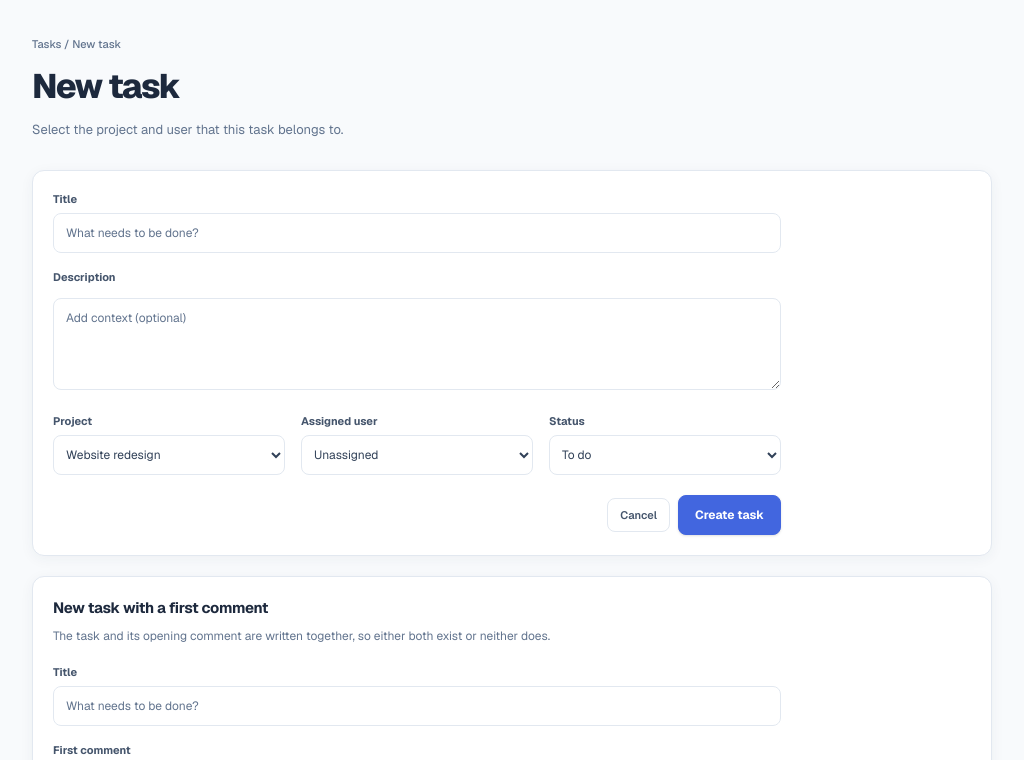
Test: TaskForm (server-side validation) › keeps what was typed when the action rejects the submit
Type "Some work" into the 1st field labelled "Title" at {"x": 417, "y": 233}, box [53,213,781,253]
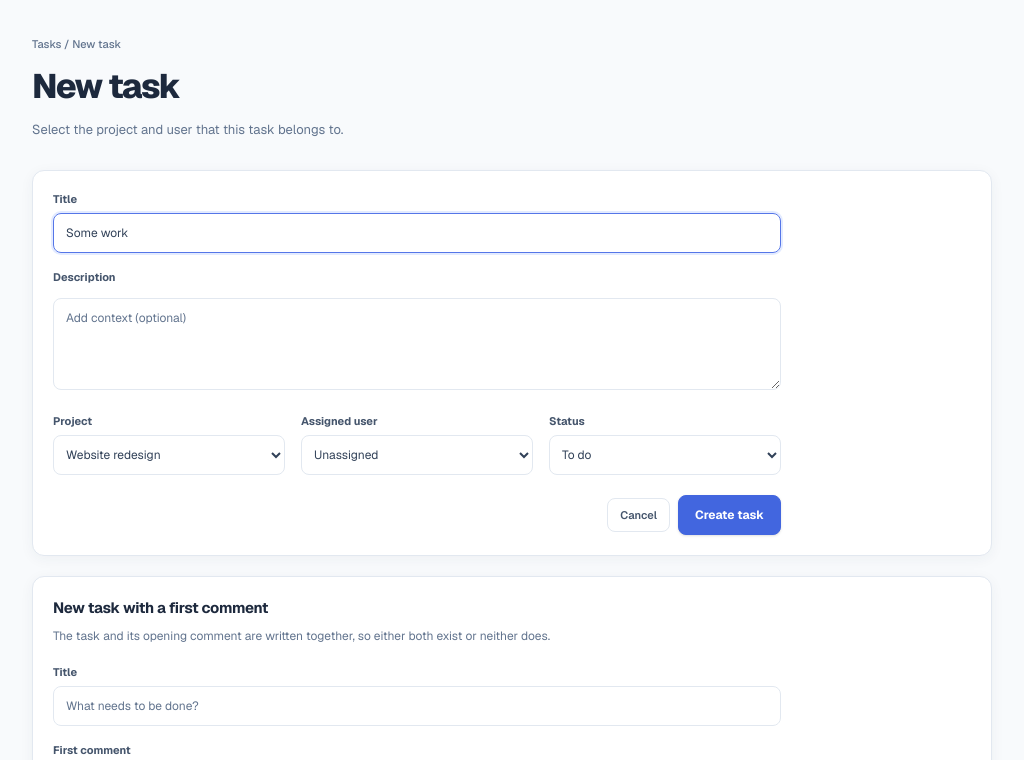
Click the button "Create task" at {"x": 730, "y": 515}, box [678,495,781,535]
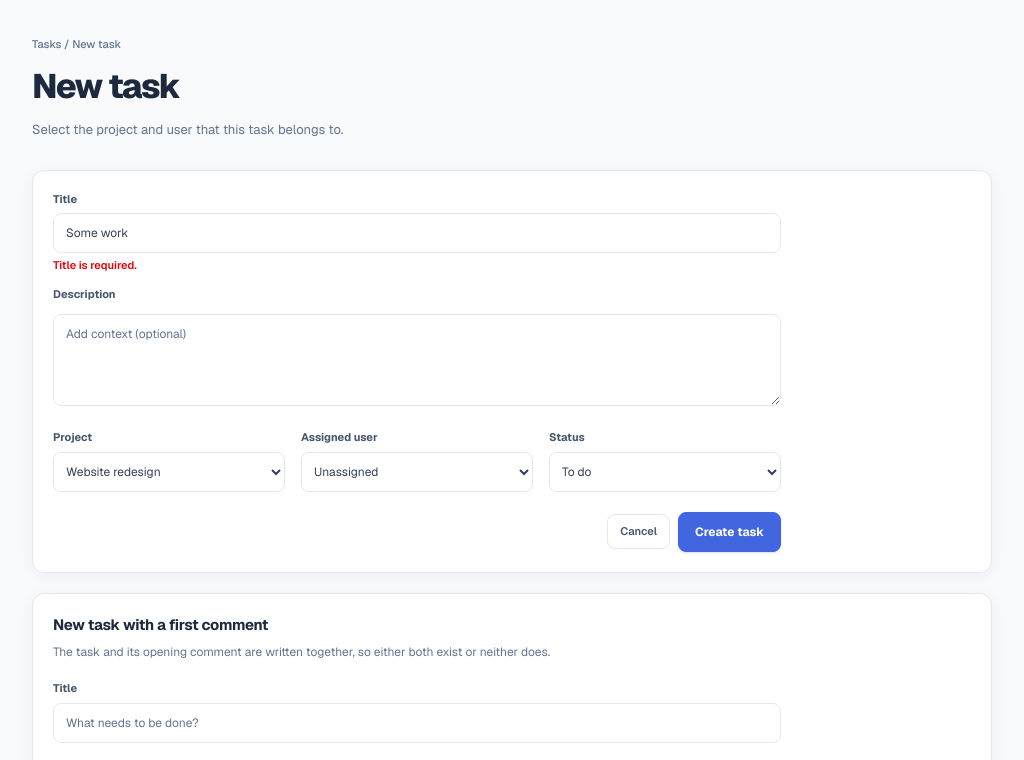
Expected: the text "Title is required." is shown, [53,258,137,272]
